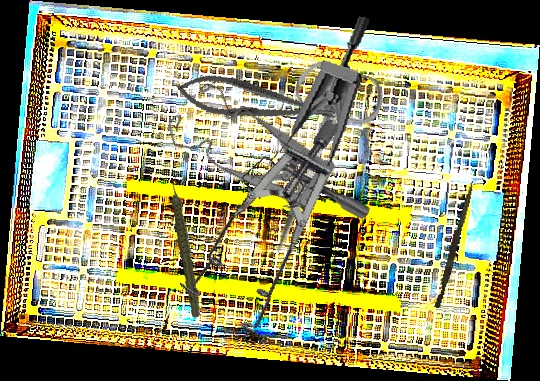Handpiece: (162, 172, 211, 319)
Iris Scissors: (239, 54, 390, 269)
Needle Holder: (174, 68, 339, 136)
Pusher: (434, 179, 475, 310)
Speculum: (144, 116, 407, 357), (155, 48, 375, 284), (236, 2, 373, 223)
